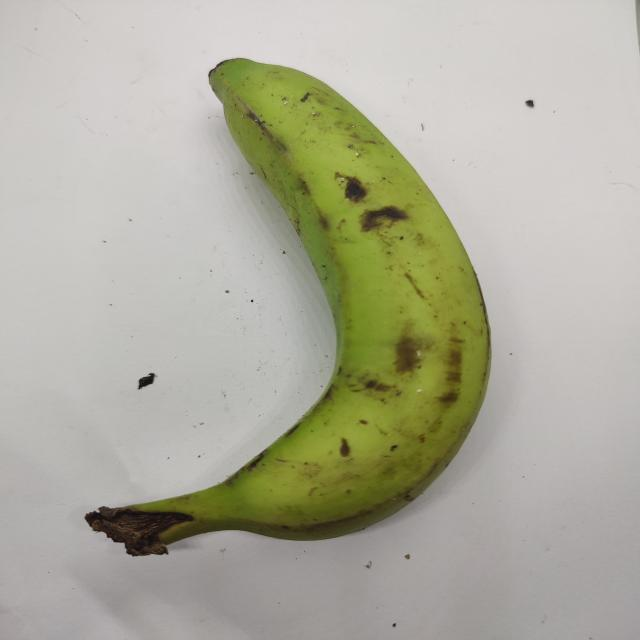Raw: (66, 48, 523, 573)
